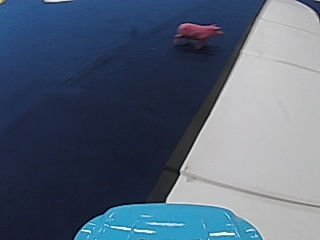pig: (173, 17, 222, 50)
